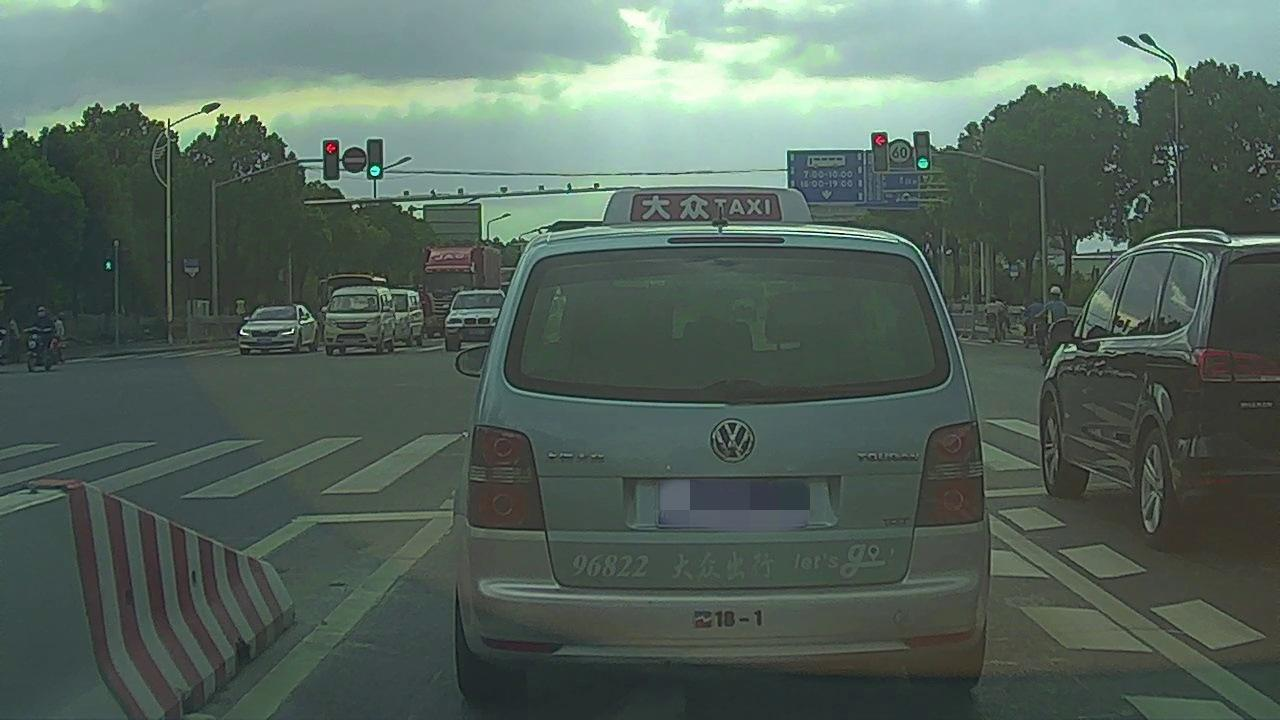traffic_light: (366, 138, 385, 179), (914, 130, 931, 170), (871, 131, 888, 170), (323, 139, 339, 180)
